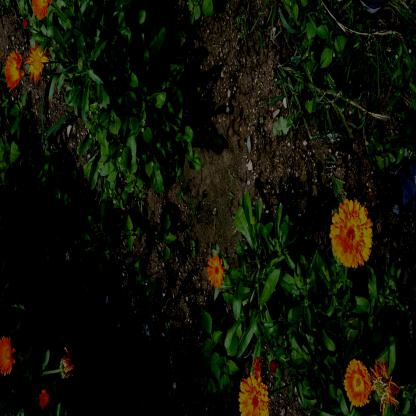marigold: (333, 201, 373, 269), (344, 359, 369, 407), (238, 380, 270, 415), (0, 335, 15, 374), (5, 52, 22, 86), (207, 255, 225, 287), (28, 49, 47, 78)
